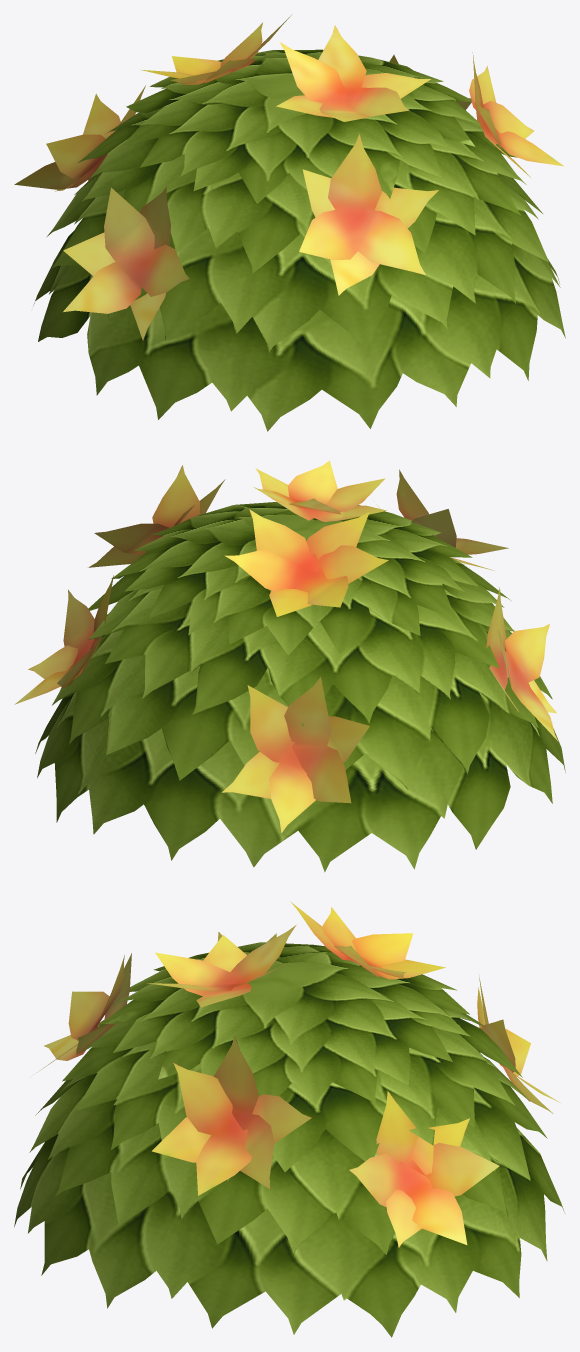
File: bush_flowers.fbx
3 views of the same model, one above another, from view 1: azimuth 30°, elevation 25°; view 2: azimuth 150°, elevation 25°; view 3: azimuth 270°, elevation 25° (orthographic). The views are drawn at different scales.
Visible parts, largest first — view 1: bush.001, bush.002, bush.009, bush.013, bush.004, bush.003, bush.017, bush.008, bush.011, bush.016, bush.010, bush.014; view 2: bush.001, bush.017, bush.011, bush.010, bush.014, bush.002, bush.013, bush.016, bush.012, bush.009, bush.015, bush.008 (+2 smaller); view 3: bush.001, bush.008, bush.012, bush.015, bush.016, bush.009, bush.010, bush.014, bush.004, bush.013, bush.017, bush.011.
Boxes of the visible parts, <box> form: bush.001: <box>33,49,565,431</box>; bush.002: <box>63,187,189,313</box>; bush.009: <box>279,42,430,121</box>; bush.013: <box>276,25,409,117</box>; bush.004: <box>302,169,438,295</box>; bush.003: <box>63,187,170,340</box>; bush.017: <box>14,94,120,189</box>; bush.008: <box>469,66,563,166</box>; bush.011: <box>46,85,145,191</box>; bush.016: <box>472,52,533,177</box>; bush.010: <box>140,22,262,82</box>; bush.014: <box>170,15,291,85</box>; bush.001: <box>35,469,565,872</box>; bush.017: <box>222,677,351,803</box>; bush.011: <box>247,685,369,832</box>; bush.010: <box>224,512,369,607</box>; bush.014: <box>249,509,388,616</box>; bush.002: <box>498,624,558,741</box>; bush.013: <box>253,460,386,521</box>; bush.016: <box>88,465,200,567</box>; bush.012: <box>14,589,103,704</box>; bush.009: <box>255,468,385,514</box>; bush.015: <box>28,575,113,688</box>; bush.008: <box>94,479,225,554</box>; bush.001: <box>14,942,564,1337</box>; bush.008: <box>173,1062,311,1195</box>; bush.012: <box>349,1118,469,1244</box>; bush.015: <box>376,1091,499,1247</box>; bush.016: <box>152,1035,274,1189</box>; bush.009: <box>155,925,296,1007</box>; bush.010: <box>290,901,413,977</box>; bush.014: <box>322,907,445,979</box>; bush.004: <box>44,953,131,1060</box>; bush.013: <box>147,935,299,991</box>; bush.017: <box>479,975,553,1113</box>; bush.011: <box>477,987,559,1102</box>.
Bounding box in the file's own units: 139 × 78.93 × 133.
